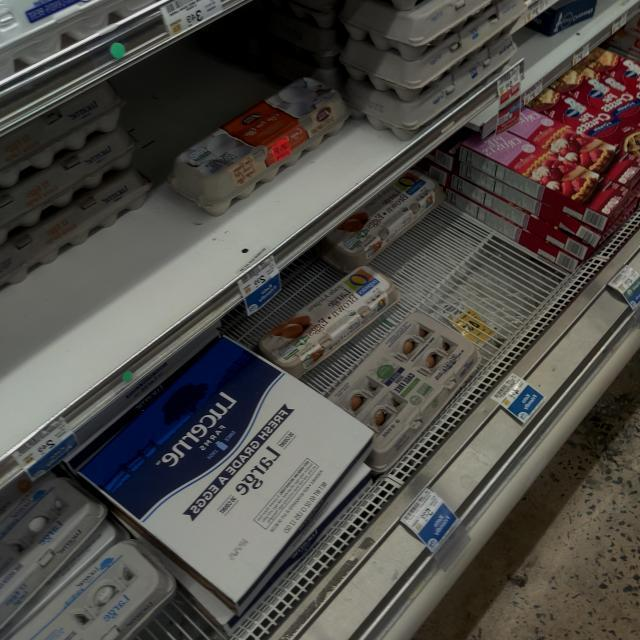Eggs: (180, 61, 354, 220), (0, 480, 164, 640), (352, 298, 484, 454), (246, 254, 408, 366)
